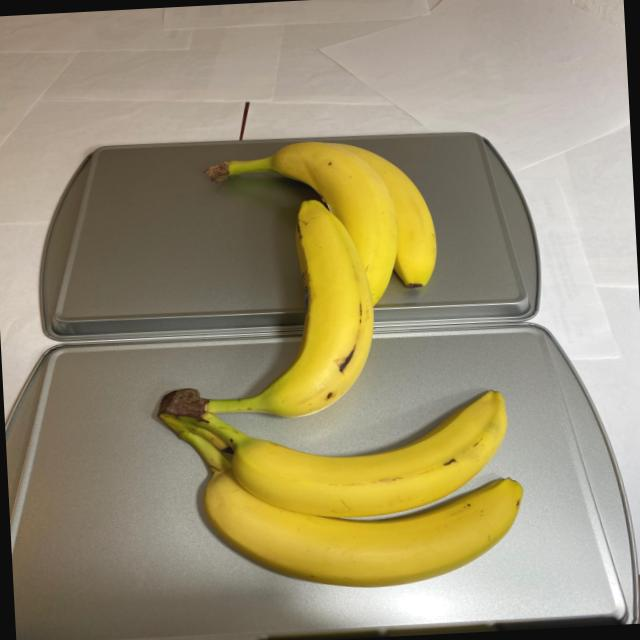banana: (144, 134, 540, 604)
